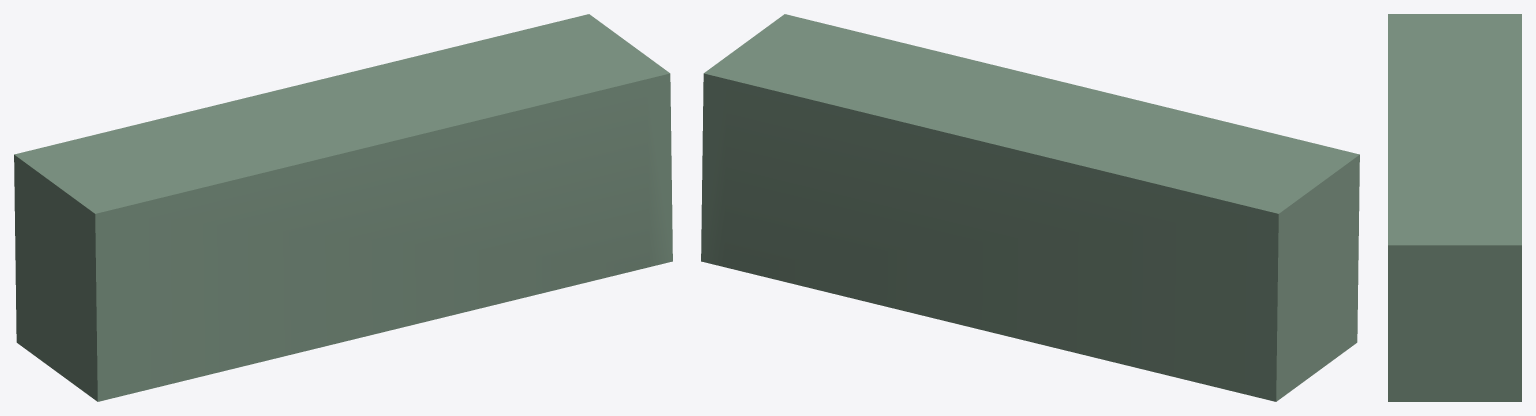
The model's file is MSH_QuestObject_cabinet_09.fbx.
3 views of the same model, side by side, from view 1: azimuth 30°, elevation 25°; view 2: azimuth 150°, elevation 25°; view 3: azimuth 270°, elevation 25° (orthographic). The views are drawn at different scales.
Visible parts, largest first — view 1: MSH_QuestObject_cabinet_09; view 2: MSH_QuestObject_cabinet_09; view 3: MSH_QuestObject_cabinet_09.
Part boxes in pixels (left/top/right/bottom): MSH_QuestObject_cabinet_09: left=14, top=14, right=672, bottom=401; MSH_QuestObject_cabinet_09: left=701, top=14, right=1359, bottom=401; MSH_QuestObject_cabinet_09: left=1388, top=14, right=1521, bottom=401.
Size of the model in its own units: 3.94 by 1.23 by 0.9595.
